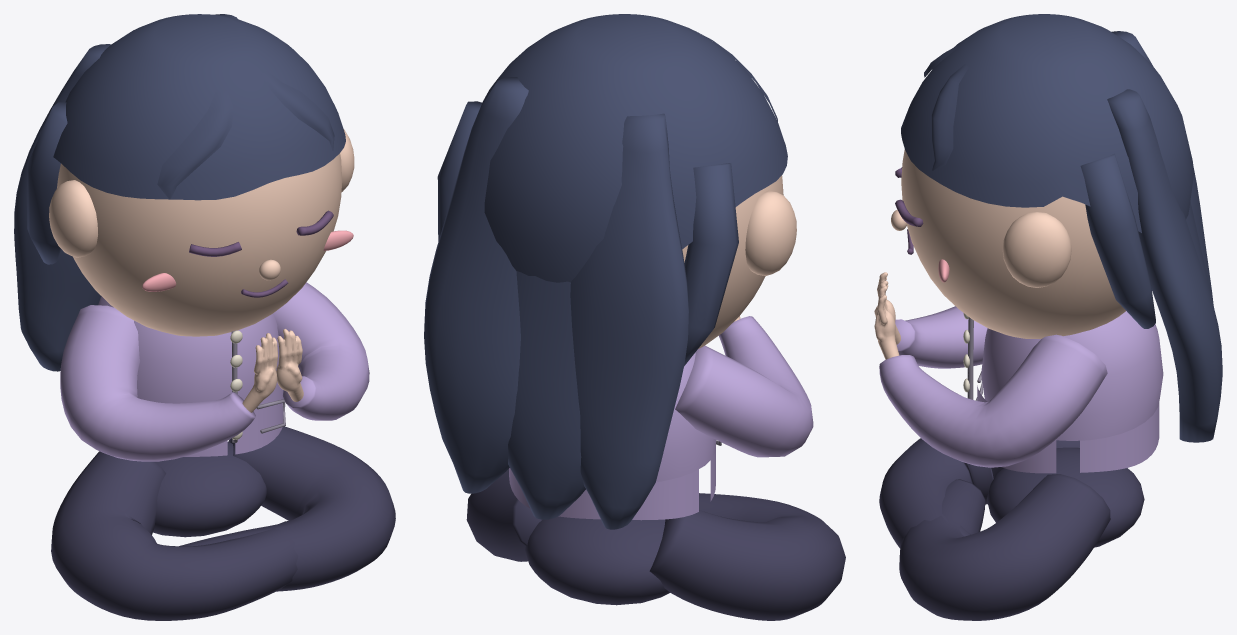
File: meditator_female_cross_prayer_p05b.glb
3 views of the same model, side by side, from view 1: azimuth 30°, elevation 25°; view 2: azimuth 150°, elevation 25°; view 3: azimuth 270°, elevation 25° (orthographic). The views are drawn at different scales.
Visible parts, largest first — view 1: hair_blue_black_UpperBodyBreath_object, ao_ba_ba_pants_SeatRoot_object, skin_rose_cream_UpperBodyBreath_object, ao_ba_ba_top_UpperBodyBreath_object, eyes_mauve_UpperBodyBreath_object, skin_blush_UpperBodyBreath_object; view 2: hair_blue_black_UpperBodyBreath_object, ao_ba_ba_pants_SeatRoot_object, ao_ba_ba_top_UpperBodyBreath_object, skin_rose_cream_UpperBodyBreath_object; view 3: hair_blue_black_UpperBodyBreath_object, ao_ba_ba_top_UpperBodyBreath_object, ao_ba_ba_pants_SeatRoot_object, skin_rose_cream_UpperBodyBreath_object, ao_ba_ba_placket_UpperBodyBreath_object, eyes_mauve_UpperBodyBreath_object.
Part boxes in pixels (left/top/right/bottom): hair_blue_black_UpperBodyBreath_object: left=14, top=14, right=345, bottom=371; ao_ba_ba_pants_SeatRoot_object: left=51, top=426, right=395, bottom=620; skin_rose_cream_UpperBodyBreath_object: left=49, top=129, right=354, bottom=412; ao_ba_ba_top_UpperBodyBreath_object: left=60, top=282, right=369, bottom=461; eyes_mauve_UpperBodyBreath_object: left=189, top=210, right=333, bottom=297; skin_blush_UpperBodyBreath_object: left=142, top=230, right=353, bottom=291; hair_blue_black_UpperBodyBreath_object: left=424, top=14, right=787, bottom=529; ao_ba_ba_pants_SeatRoot_object: left=466, top=469, right=845, bottom=620; ao_ba_ba_top_UpperBodyBreath_object: left=509, top=316, right=813, bottom=520; skin_rose_cream_UpperBodyBreath_object: left=682, top=175, right=796, bottom=348; hair_blue_black_UpperBodyBreath_object: left=901, top=14, right=1222, bottom=442; ao_ba_ba_top_UpperBodyBreath_object: left=879, top=306, right=1163, bottom=473; ao_ba_ba_pants_SeatRoot_object: left=879, top=438, right=1144, bottom=620; skin_rose_cream_UpperBodyBreath_object: left=874, top=149, right=1125, bottom=359; ao_ba_ba_placket_UpperBodyBreath_object: left=967, top=317, right=982, bottom=400; eyes_mauve_UpperBodyBreath_object: left=895, top=167, right=923, bottom=254.
Bounding box in the file's own units: 0.7292 × 1.16 × 0.6838.
